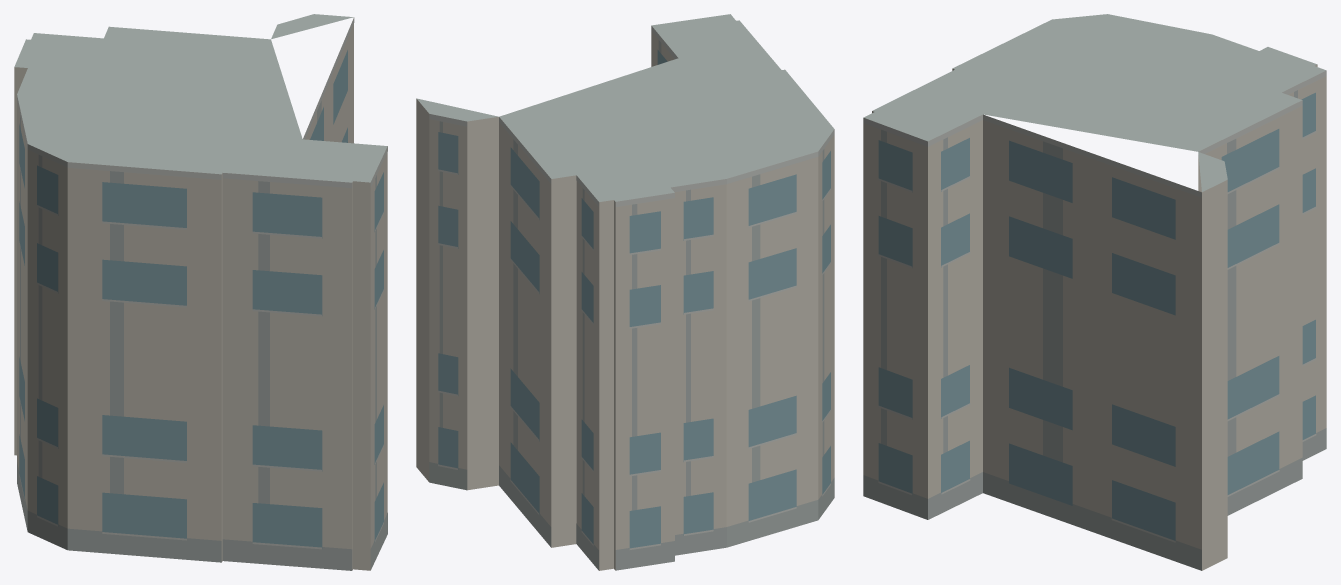
The model's file is survey-upis-33035558.glb.
The picture shows the model from 3 angles, left to right: view 1: azimuth 30°, elevation 25°; view 2: azimuth 150°, elevation 25°; view 3: azimuth 270°, elevation 25°; orthographic projection. The views are drawn at different scales.
Parts seen in each view (by area): view 1: survey-upis-33035558.tmp; view 2: survey-upis-33035558.tmp; view 3: survey-upis-33035558.tmp.
Part boxes in pixels (x1,y1,x2,y2): survey-upis-33035558.tmp: [14, 14, 387, 570]; survey-upis-33035558.tmp: [416, 14, 834, 570]; survey-upis-33035558.tmp: [863, 14, 1326, 570].
Bounding box in the file's own units: 17.08 × 16.9 × 18.75.
